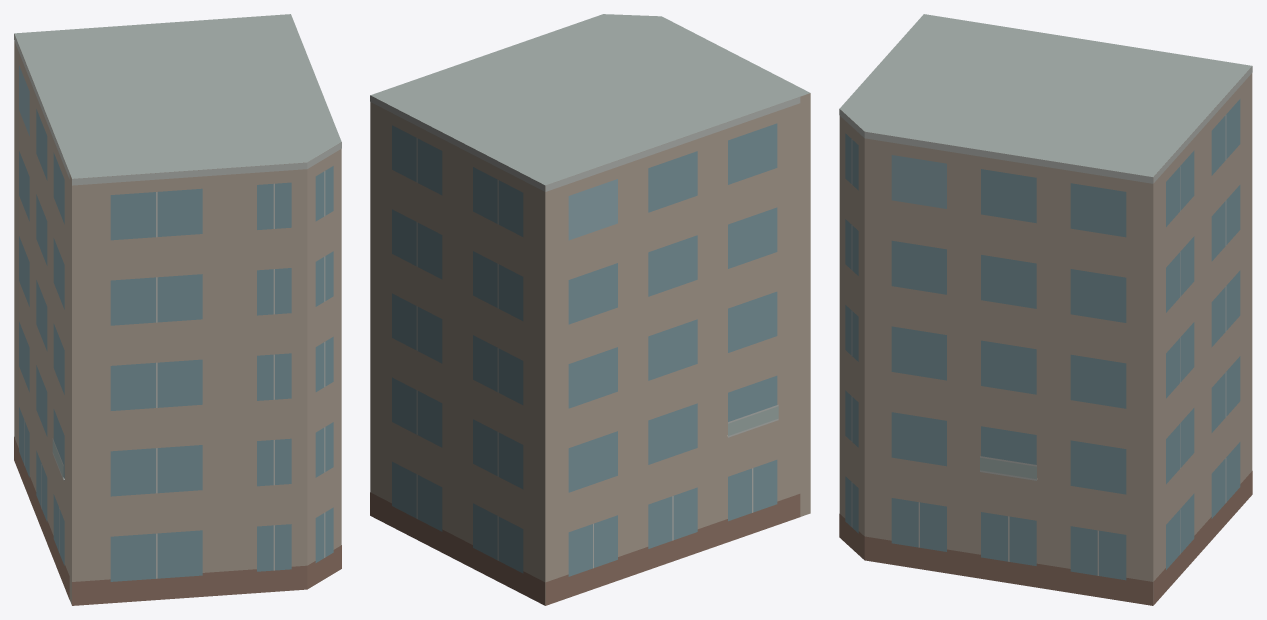
File: survey-upis-32528196.glb
3 renders of one model, left to right at view 1: azimuth 30°, elevation 25°; view 2: azimuth 150°, elevation 25°; view 3: azimuth 270°, elevation 25°, orthographic.
Visible parts, largest first — view 1: survey-upis-32528196.tmp; view 2: survey-upis-32528196.tmp; view 3: survey-upis-32528196.tmp.
Boxes of the visible parts, x1=… form: survey-upis-32528196.tmp: x1=14, y1=14, x2=341, y2=605; survey-upis-32528196.tmp: x1=370, y1=14, x2=810, y2=605; survey-upis-32528196.tmp: x1=839, y1=14, x2=1252, y2=605.
Bounding box in the file's own units: 12.74 × 15.6 × 13.63.
